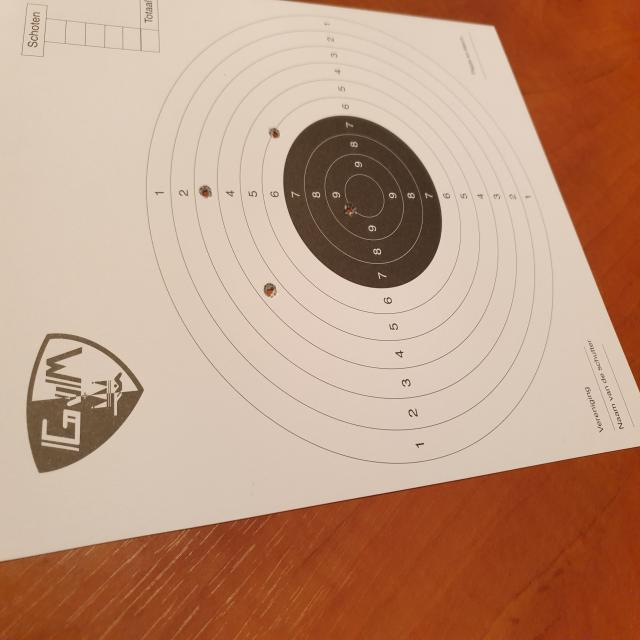10: (343, 202, 358, 218)
3: (197, 183, 214, 200)
4: (262, 281, 278, 299)
6: (268, 126, 282, 140)
Target: (144, 12, 557, 461)
black_contour: (282, 113, 442, 289)
